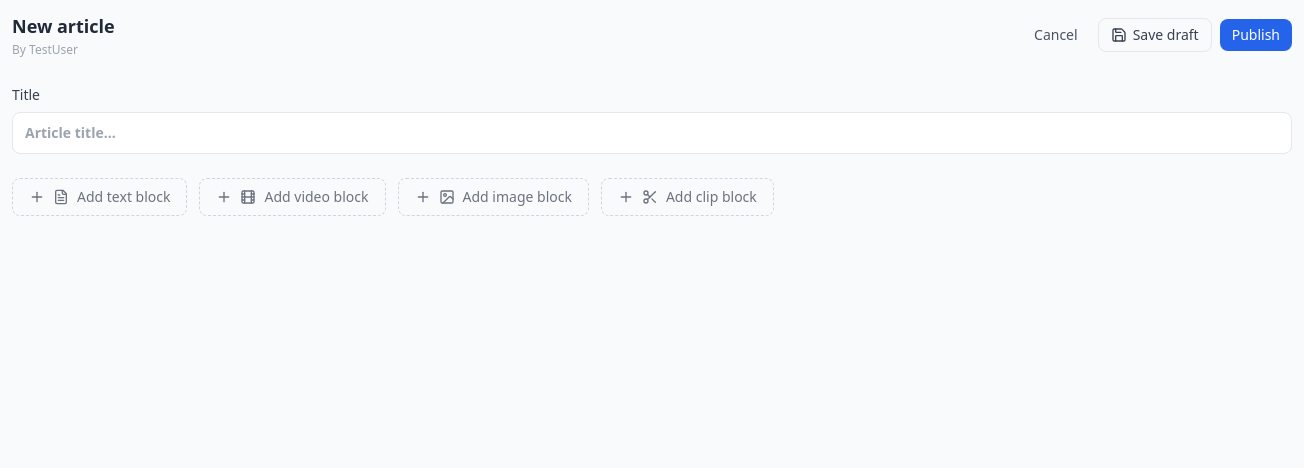
Test: ArticleEditor — block insertion buttons › clicking "+ Text" adds a text block
Click the button "Add text block": (100, 197) [12, 178, 188, 216]
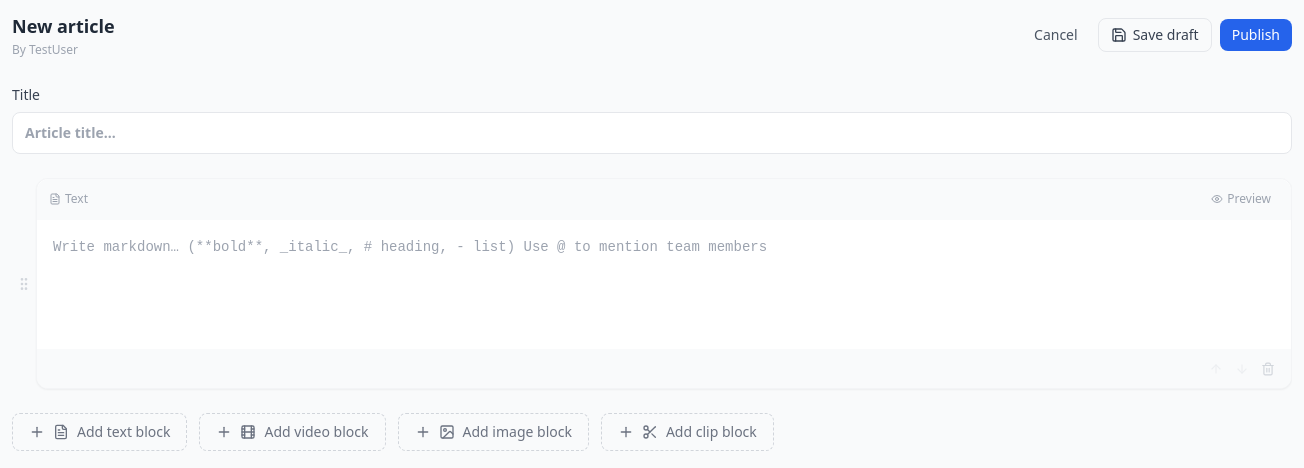
expect the text box with placeholder "Write markdown" is shown: met, box [53, 236, 1275, 327]
